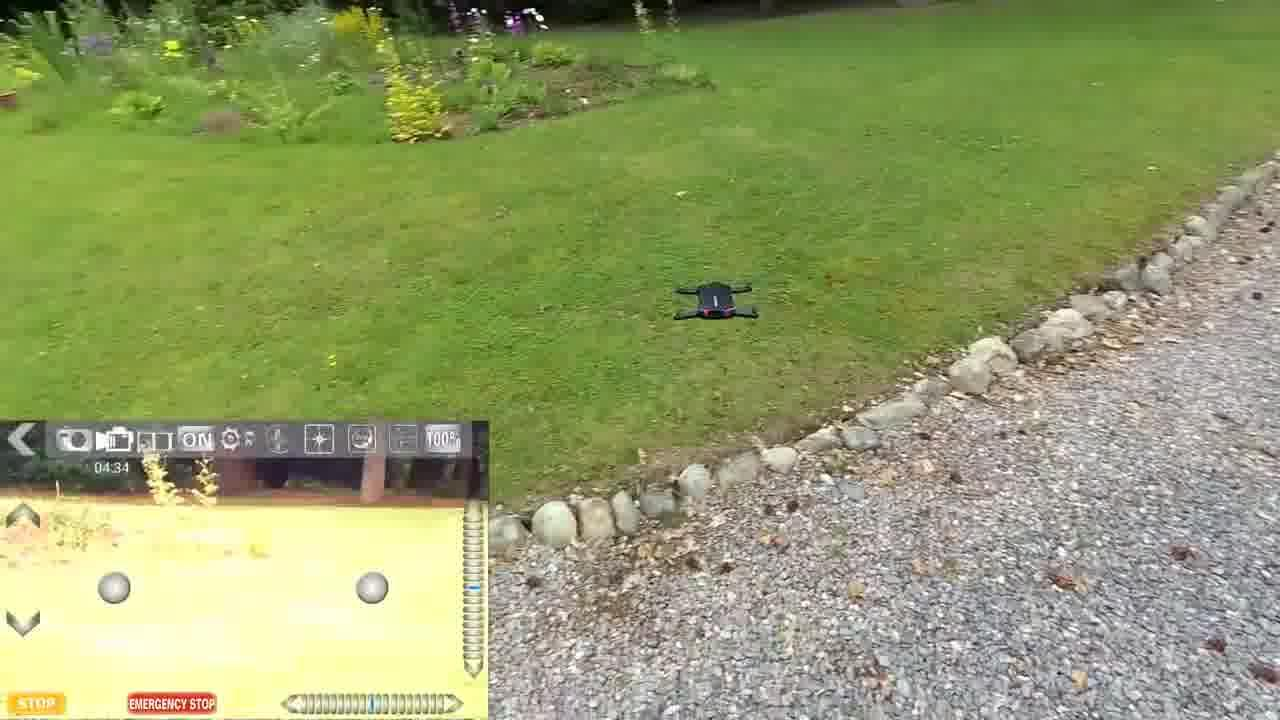drone: (660, 275, 774, 330)
